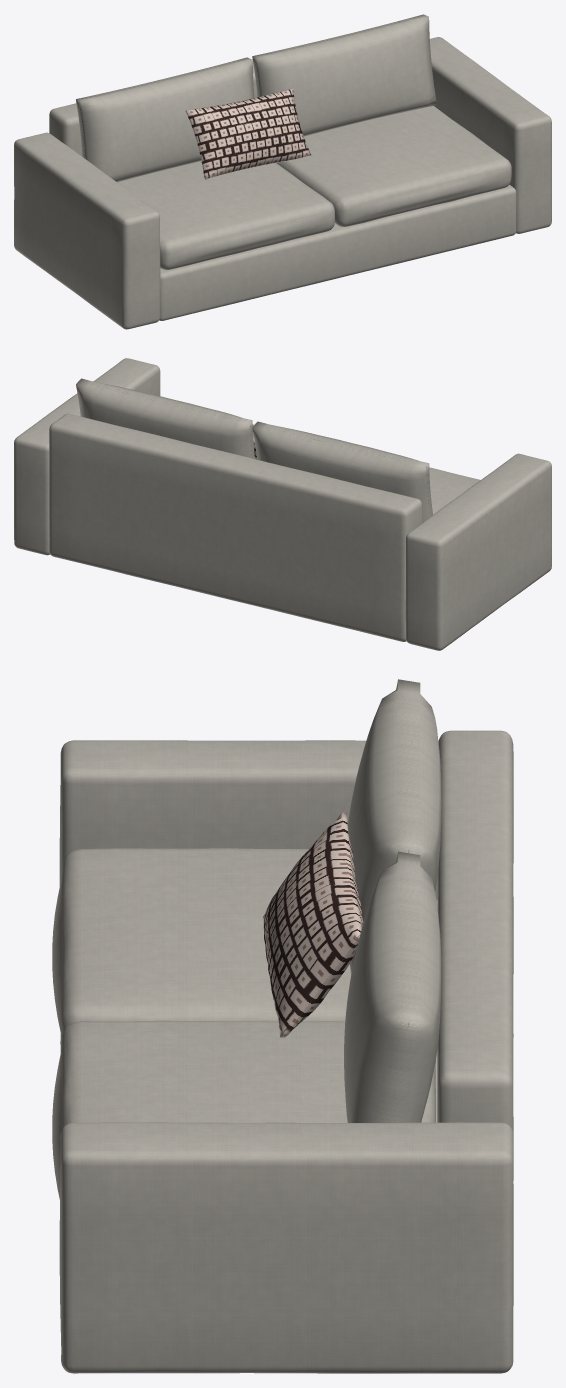
File: stanza-two-seat-01-mobile.glb
The picture shows the model from 3 angles, top to bottom: view 1: azimuth 30°, elevation 25°; view 2: azimuth 150°, elevation 25°; view 3: azimuth 270°, elevation 25°; orthographic projection. The views are drawn at different scales.
Parts seen in each view (by area): view 1: arm_l, base_band, seat_cushion_2, seat_cushion_1, back_cushion_2_cover, back_cushion_1_cover, arm_r, pillow_1_cover, back_panel; view 2: back_panel, arm_l, back_cushion_1_cover, back_cushion_2_cover, arm_r, seat_cushion_1; view 3: arm_r, seat_cushion_1, arm_l, seat_cushion_2, back_panel, back_cushion_2_cover, back_cushion_1_cover, pillow_1_cover.
Part boxes in pixels (x1,y1,x2,y2): arm_l: (14,132,160,329); base_band: (159,185,516,320); seat_cushion_2: (276,106,511,226); seat_cushion_1: (117,161,334,269); back_cushion_2_cover: (252,14,436,136); back_cushion_1_cover: (76,57,254,182); arm_r: (430,37,551,233); pillow_1_cover: (185,88,311,179); back_panel: (49,60,257,156); back_panel: (49,413,422,641); arm_l: (405,453,551,650); back_cushion_1_cover: (252,421,432,522); back_cushion_2_cover: (76,378,254,458); arm_r: (14,358,160,555); seat_cushion_1: (429,467,480,514); arm_r: (59,1122,513,1373); seat_cushion_1: (52,848,435,1045); arm_l: (59,740,513,900); seat_cushion_2: (52,1020,435,1199); back_panel: (437,730,513,1305); back_cushion_2_cover: (344,851,441,1122); back_cushion_1_cover: (347,679,441,975); pillow_1_cover: (262,811,363,1037).
Bounding box in the file's own units: 2.64 × 0.9345 × 1.22.
3 materials, 2 textured.
